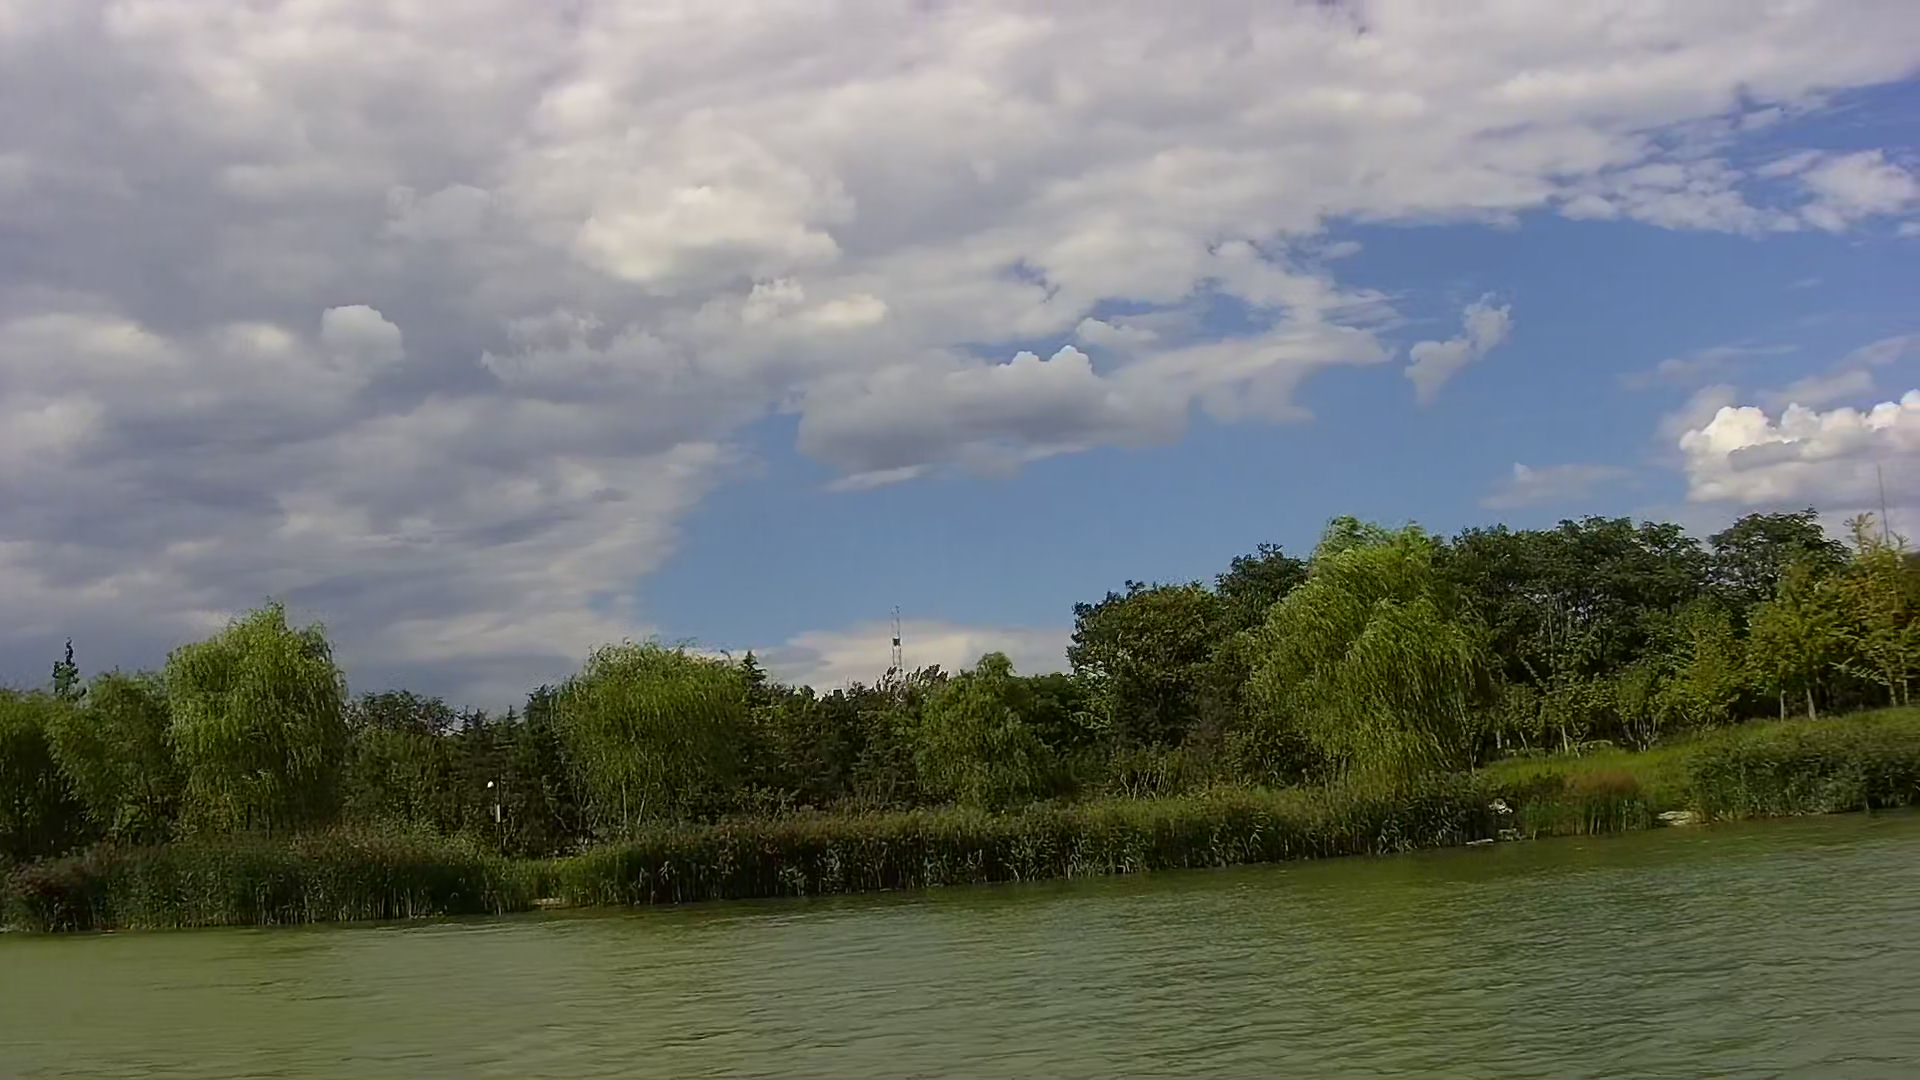rock: (1654, 808, 1702, 829)
